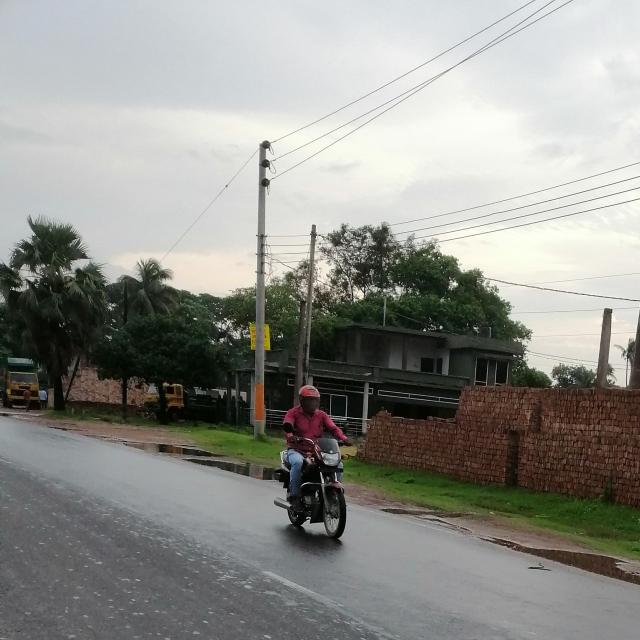Motorbike: (273, 418, 371, 541)
Truck: (1, 354, 48, 415)
